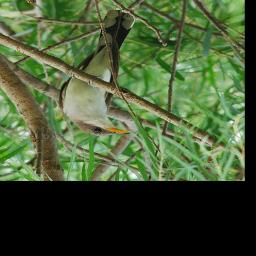Cuckoo: (58, 9, 137, 136)
